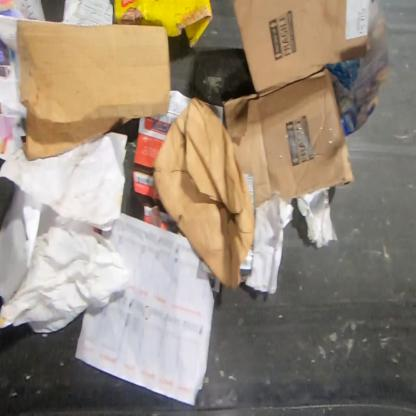cardboard: (221, 0, 373, 209), (15, 18, 173, 161), (131, 90, 192, 235), (112, 0, 215, 50), (243, 174, 255, 210), (206, 101, 224, 123), (239, 249, 254, 270)
